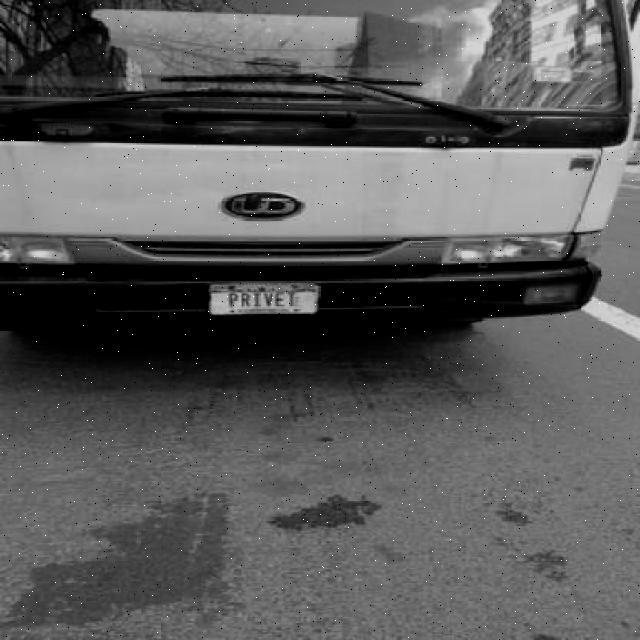LicensePlate: (204, 282, 322, 317)
